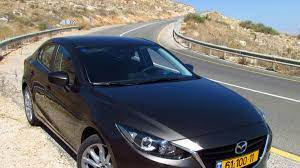licence: (217, 149, 259, 168)
